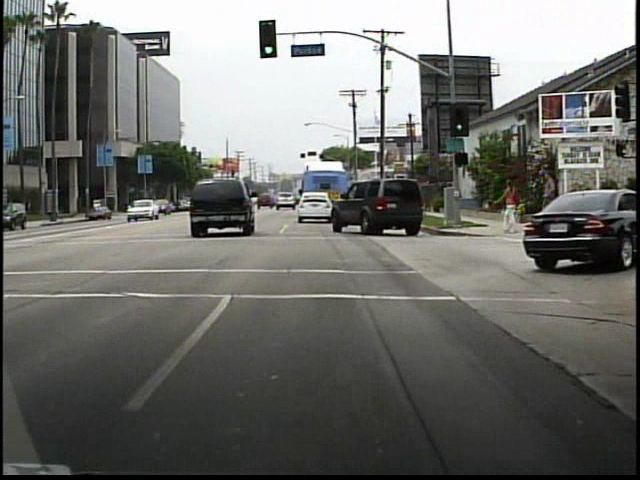person: (492, 174, 526, 240), (534, 168, 561, 229)
